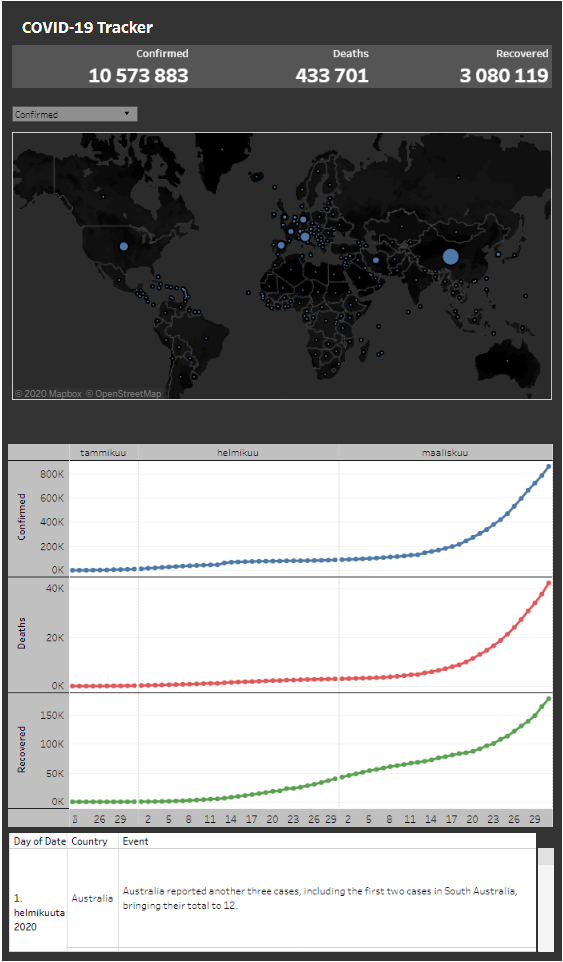

The dashboard page shown, as its layout file describes it:
{"tool":"tableau","page":{"name":"Covid-19","canvas":[700,1200],"ordinal":0},"visuals":[{"type":"worksheet","title":"summary","mark":"Text","box":[8,8,684,118]},{"type":"parameter","param":"[Parameters].[Parameter 1]","box":[11,131,160,28]},{"type":"worksheet","title":"map (2)","mark":"Automatic","box":[8,145,684,342]},{"type":"worksheet","title":"map (3)","mark":"Automatic","box":[8,487,684,24]},{"type":"worksheet","title":"map","mark":"Automatic","box":[8,511,684,24]},{"type":"worksheet","title":"lines","mark":"Automatic","rows":["Confirmed","Deaths","Recovered"],"cols":["Date","Date"],"box":[8,538,681,495]},{"type":"worksheet","title":"events","mark":"Automatic","rows":["Date","Country","Event"],"box":[9,1040,681,148]}]}

Visuals, with their boxes in screenshot pixels (x1, y1, x2, y2), scaled from the page's 700x1200 canvas onto the 563x962 screenshot:
"summary" worksheet (Text marks): box=[6, 6, 557, 101]
parameter: box=[9, 105, 138, 127]
"map (2)" worksheet: box=[6, 116, 557, 390]
"map (3)" worksheet: box=[6, 390, 557, 410]
"map" worksheet: box=[6, 410, 557, 429]
"lines" worksheet: box=[6, 431, 554, 828]
"events" worksheet: box=[7, 834, 555, 952]
